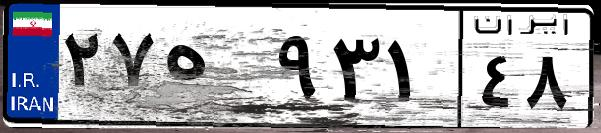1: (385, 28, 445, 110)
2: (57, 26, 110, 100)
3: (330, 28, 385, 110)
4: (475, 38, 525, 113)
7: (110, 28, 158, 98)
8: (525, 38, 570, 115)
9: (270, 28, 330, 110)
ه: (158, 20, 270, 120)
